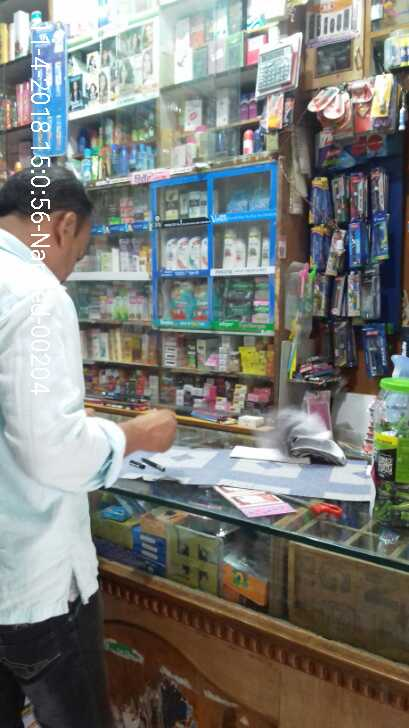venus: (227, 185, 250, 208), (250, 180, 268, 208)
